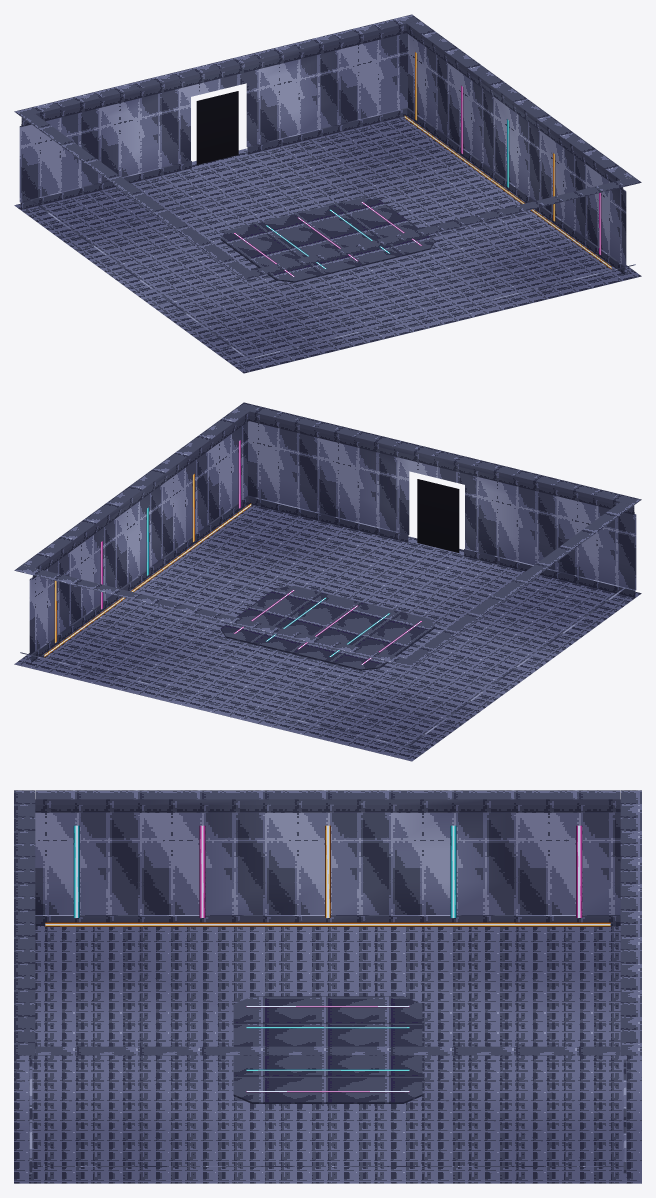
File: cyroom.club__arena.glb
3 views of the same model, one above another, from view 1: azimuth 30°, elevation 25°; view 2: azimuth 150°, elevation 25°; view 3: azimuth 270°, elevation 25° (orthographic). The views are drawn at different scales.
Parts seen in each view (by area): view 1: kit_shell_floor, kit_shell_walls, kit_trim, kit_card_lights; view 2: kit_shell_floor, kit_shell_walls, kit_trim, kit_card_lights; view 3: kit_shell_floor, kit_shell_walls, kit_trim, kit_card_lights.
Part boxes in pixels (<box>): kit_shell_floor: <box>14,116,641,373</box>; kit_shell_walls: <box>14,14,641,361</box>; kit_trim: <box>220,198,435,282</box>; kit_card_lights: <box>196,52,611,276</box>; kit_shell_floor: <box>14,504,641,761</box>; kit_shell_walls: <box>14,402,641,749</box>; kit_trim: <box>220,586,435,670</box>; kit_card_lights: <box>44,440,459,664</box>; kit_shell_floor: <box>14,926,641,1183</box>; kit_shell_walls: <box>14,790,641,1173</box>; kit_trim: <box>233,996,422,1103</box>; kit_card_lights: <box>45,825,610,1092</box>.
Size of the model in its own units: 20 by 4.54 by 20.
Materials: 6 (6 with a texture image).
